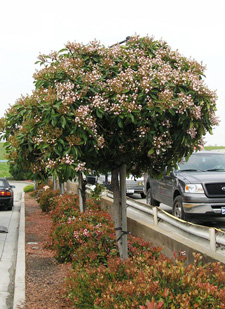tree: (8, 26, 220, 266)
